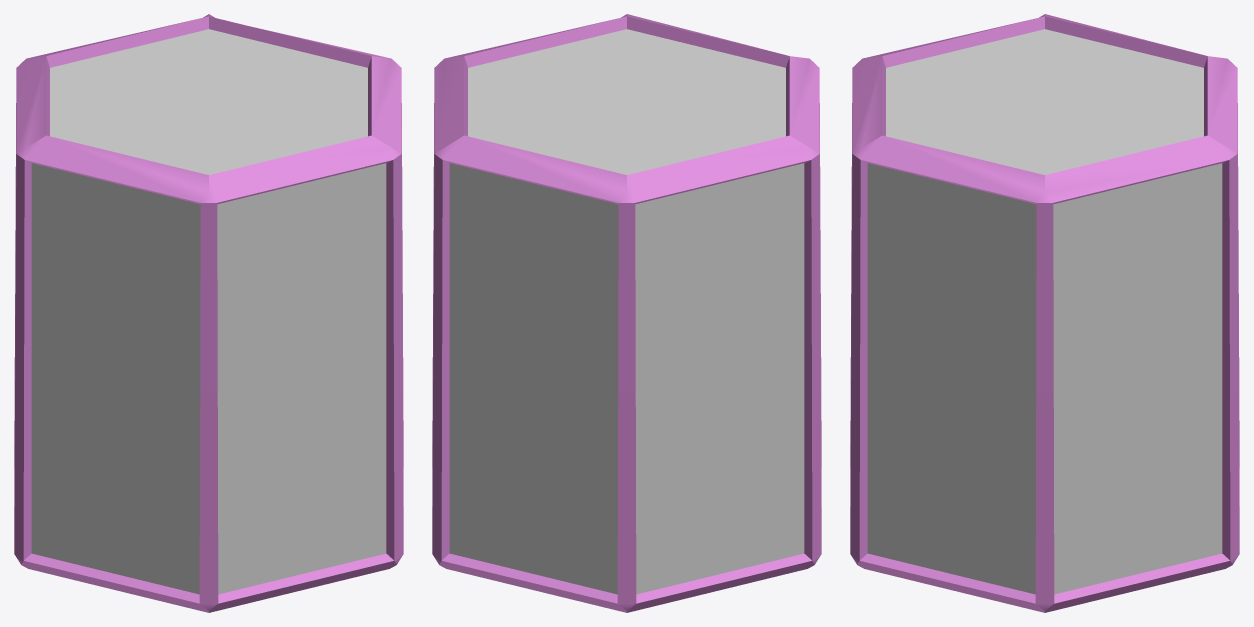
Rendered from MirrorTile.fbx.
The picture shows the model from 3 angles, left to right: view 1: azimuth 30°, elevation 25°; view 2: azimuth 150°, elevation 25°; view 3: azimuth 270°, elevation 25°; orthographic projection.
Visible parts, largest first — view 1: Hex; view 2: Hex; view 3: Hex.
Part boxes in pixels (<box>): Hex: <box>14,14,403,612</box>; Hex: <box>432,14,821,612</box>; Hex: <box>850,14,1239,612</box>.
Size of the model in its own units: 10.3 by 11.11 by 9.14.
